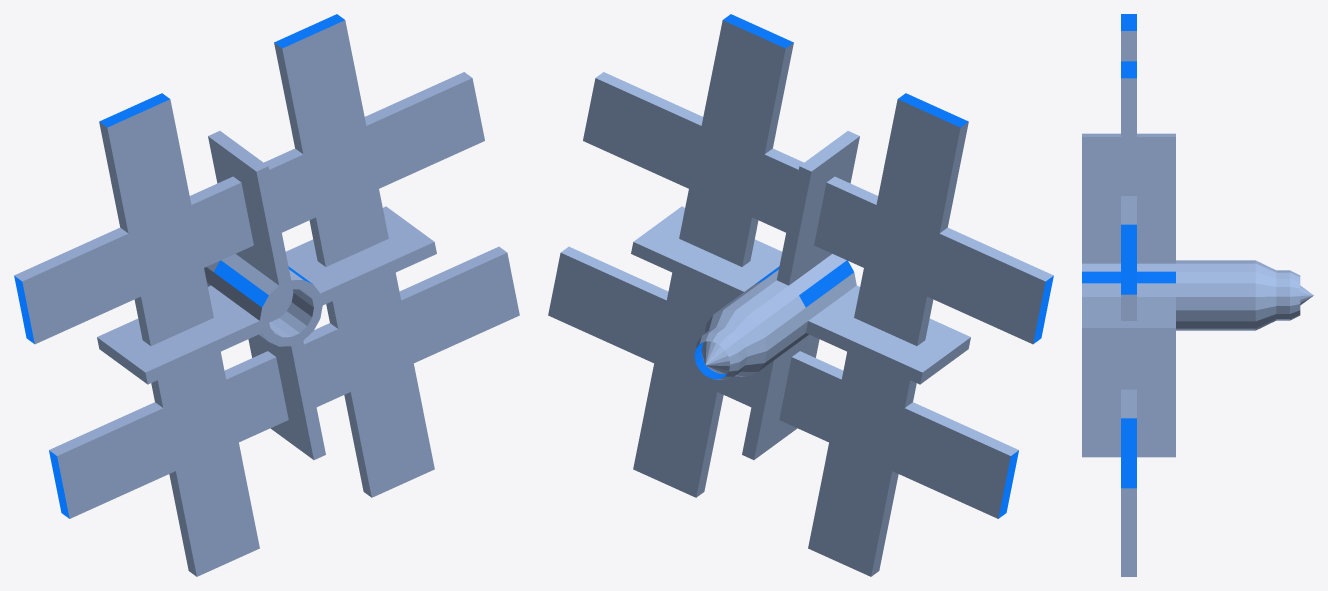
The model's file is Missile.fbx.
The picture shows the model from 3 angles, left to right: view 1: azimuth 30°, elevation 25°; view 2: azimuth 150°, elevation 25°; view 3: azimuth 270°, elevation 25°; orthographic projection. The views are drawn at different scales.
Visible parts, largest first — view 1: Missile; view 2: Missile; view 3: Missile.
Boxes of the visible parts, x1,y1,x2,y2 form: Missile: (14,14,519,576); Missile: (548,14,1053,576); Missile: (1082,14,1313,576).
Bounding box in the file's own units: 1184 × 1184 × 494.
